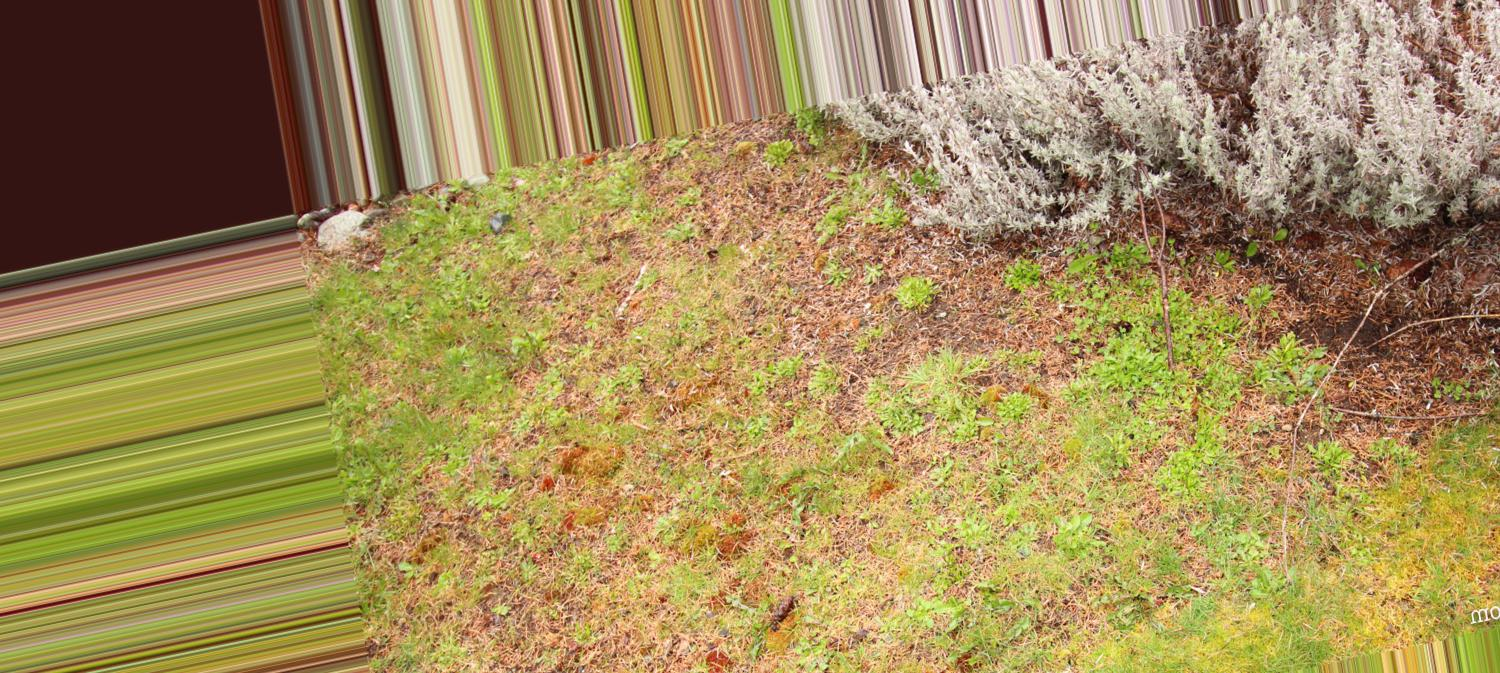patch: (1276, 248, 1444, 359), (784, 179, 876, 314), (947, 248, 1010, 328), (727, 168, 764, 251)
